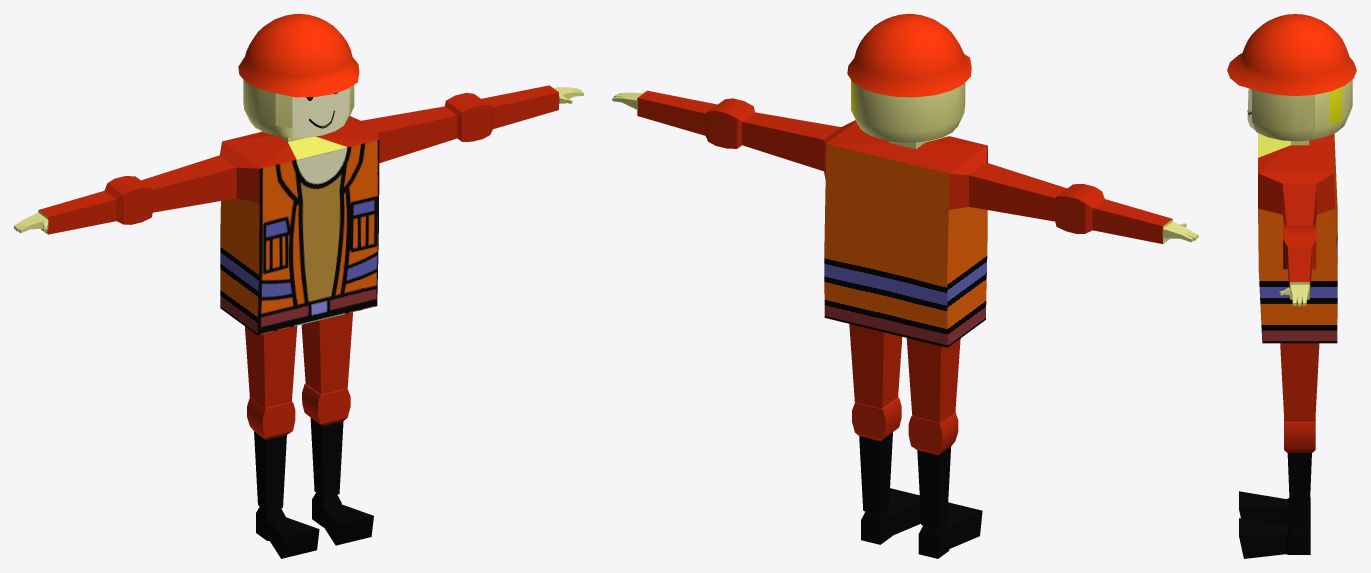
The model's file is mining.obj.
3 renders of one model, left to right at view 1: azimuth 30°, elevation 25°; view 2: azimuth 150°, elevation 25°; view 3: azimuth 270°, elevation 25°, orthographic. The views are drawn at different scales.
Visible parts, largest first — view 1: pasted__helmet; view 2: pasted__helmet; view 3: pasted__helmet.
Boxes of the visible parts, box(x1,y1,x2,y2) form: pasted__helmet: box(14, 14, 583, 558); pasted__helmet: box(612, 14, 1198, 558); pasted__helmet: box(1227, 14, 1356, 558).
Size of the model in its own units: 8.02 by 6.93 by 1.58.
12 materials, 5 textured.
